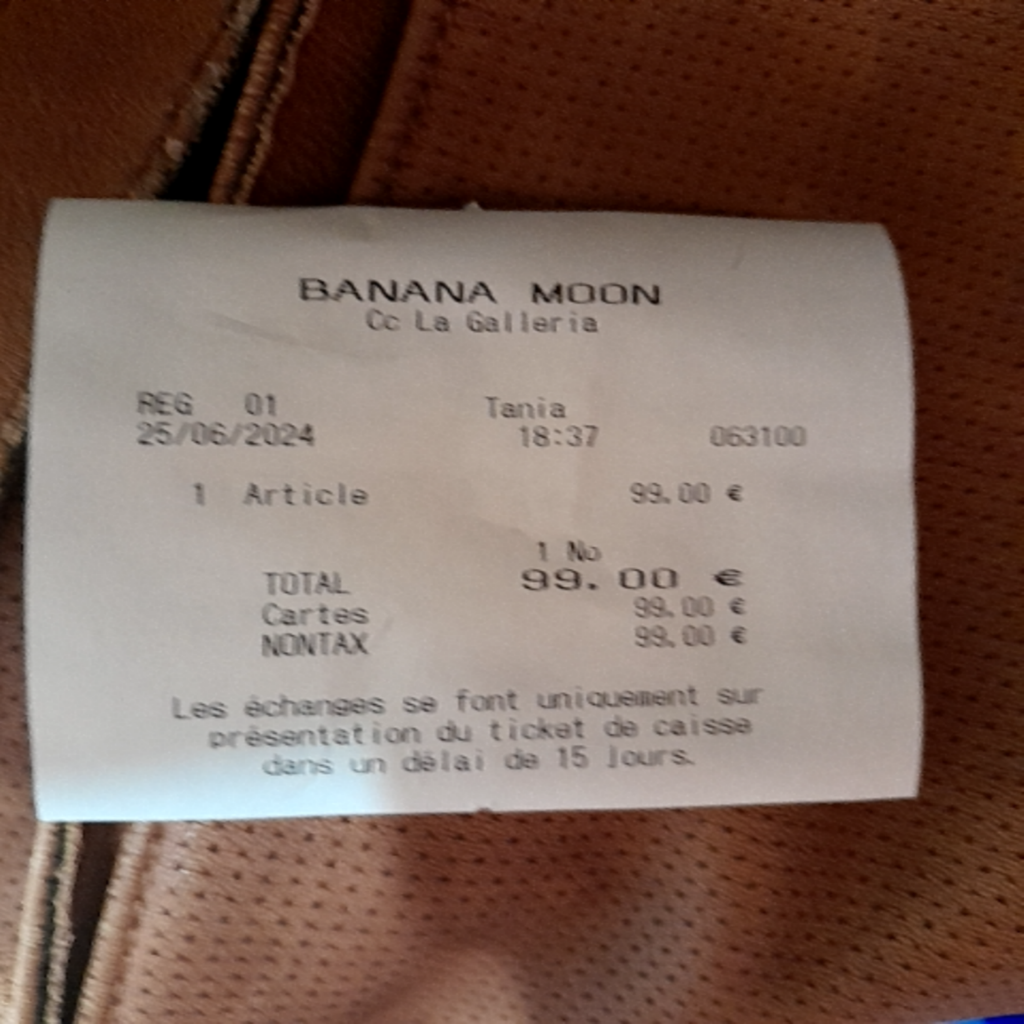recipt: (23, 195, 919, 818)
